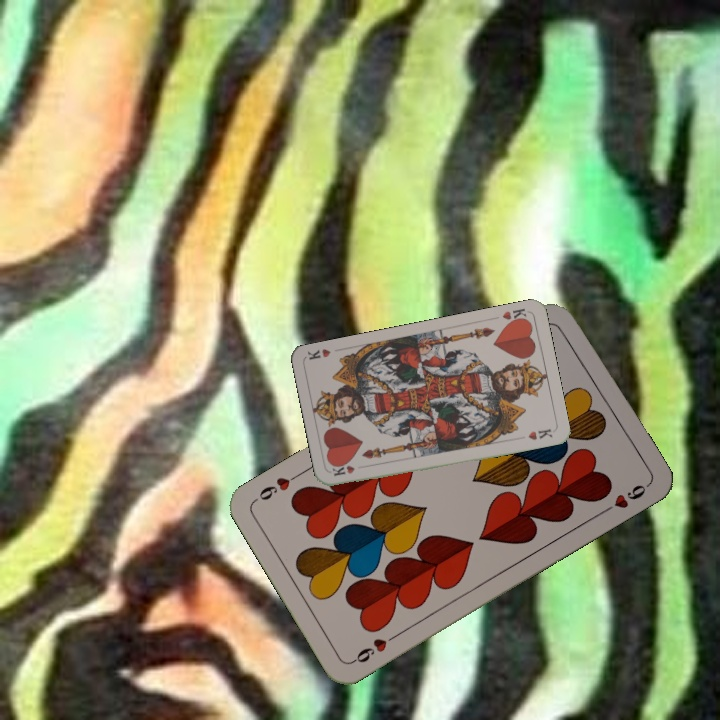H9: (348, 629, 401, 666)
HK: (498, 304, 530, 327), (328, 462, 357, 478)
